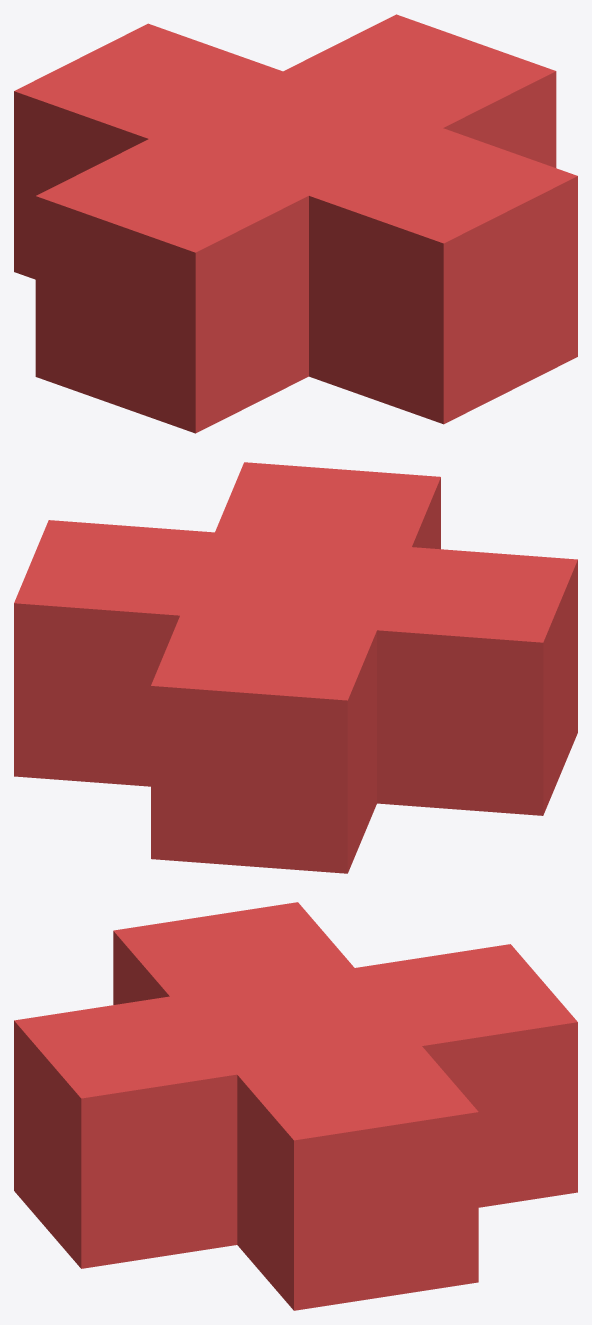
File: cross.dae
3 views of the same model, one above another, from view 1: azimuth 30°, elevation 25°; view 2: azimuth 150°, elevation 25°; view 3: azimuth 270°, elevation 25° (orthographic). The views are drawn at different scales.
Parts seen in each view (by area): view 1: cross1; view 2: cross1; view 3: cross1.
Part boxes in pixels (x1,y1,x2,y2): cross1: [14, 14, 577, 433]; cross1: [14, 462, 577, 873]; cross1: [14, 902, 577, 1310].
Bounding box in the file's own units: 0.09 × 0.09 × 0.03.
